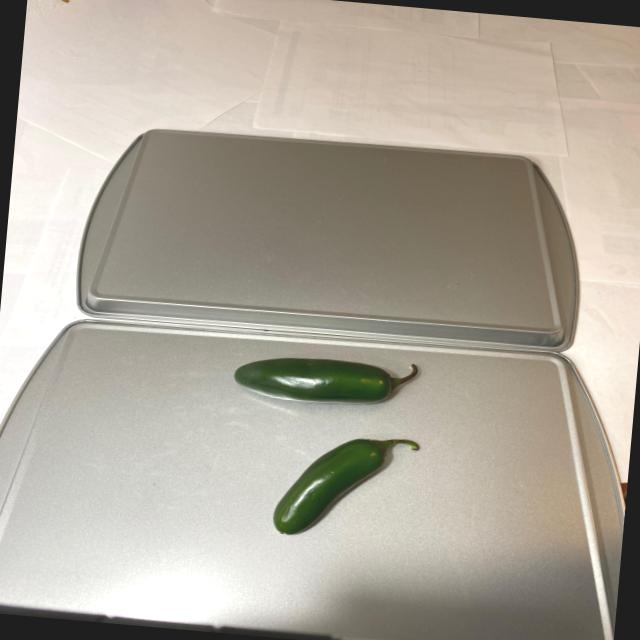chilli: (216, 350, 436, 549)
